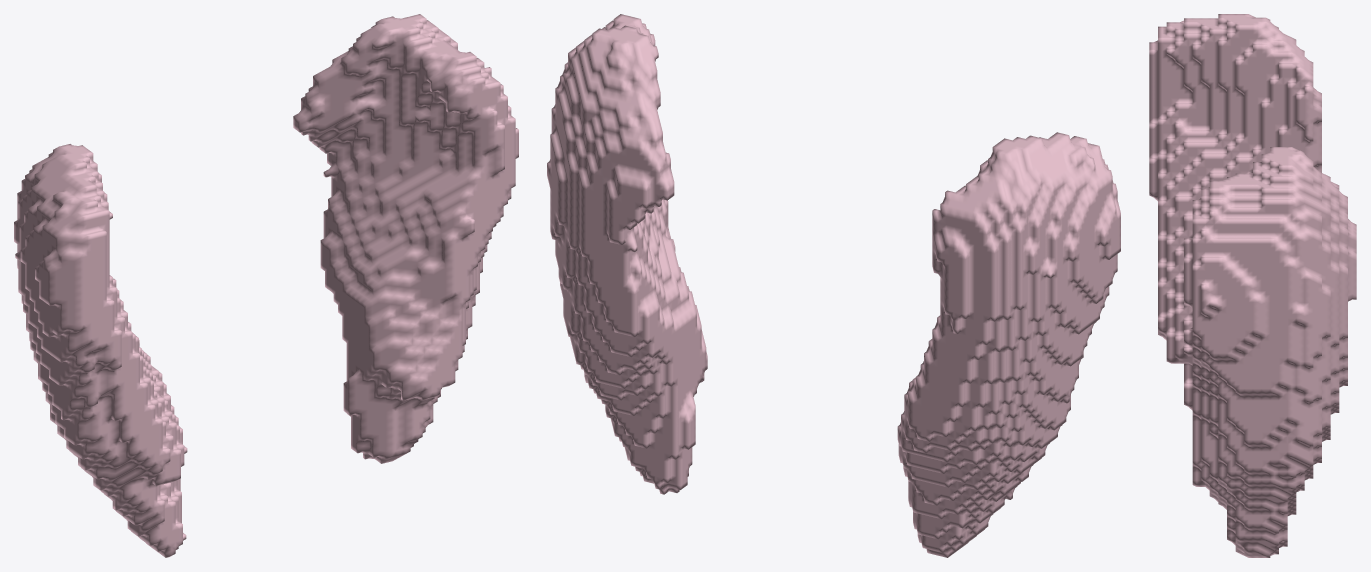
The model's file is region-11.glb.
3 views of the same model, side by side, from view 1: azimuth 30°, elevation 25°; view 2: azimuth 150°, elevation 25°; view 3: azimuth 270°, elevation 25° (orthographic). The views are drawn at different scales.
Visible parts, largest first — view 1: digimouse-volume:11; view 2: digimouse-volume:11; view 3: digimouse-volume:11.
Boxes of the visible parts, <box> form: digimouse-volume:11: <box>14,14,518,557</box>; digimouse-volume:11: <box>547,14,1120,557</box>; digimouse-volume:11: <box>1149,14,1356,557</box>.
Bounding box in the file's own units: 0.0128 × 0.011 × 0.0048.
